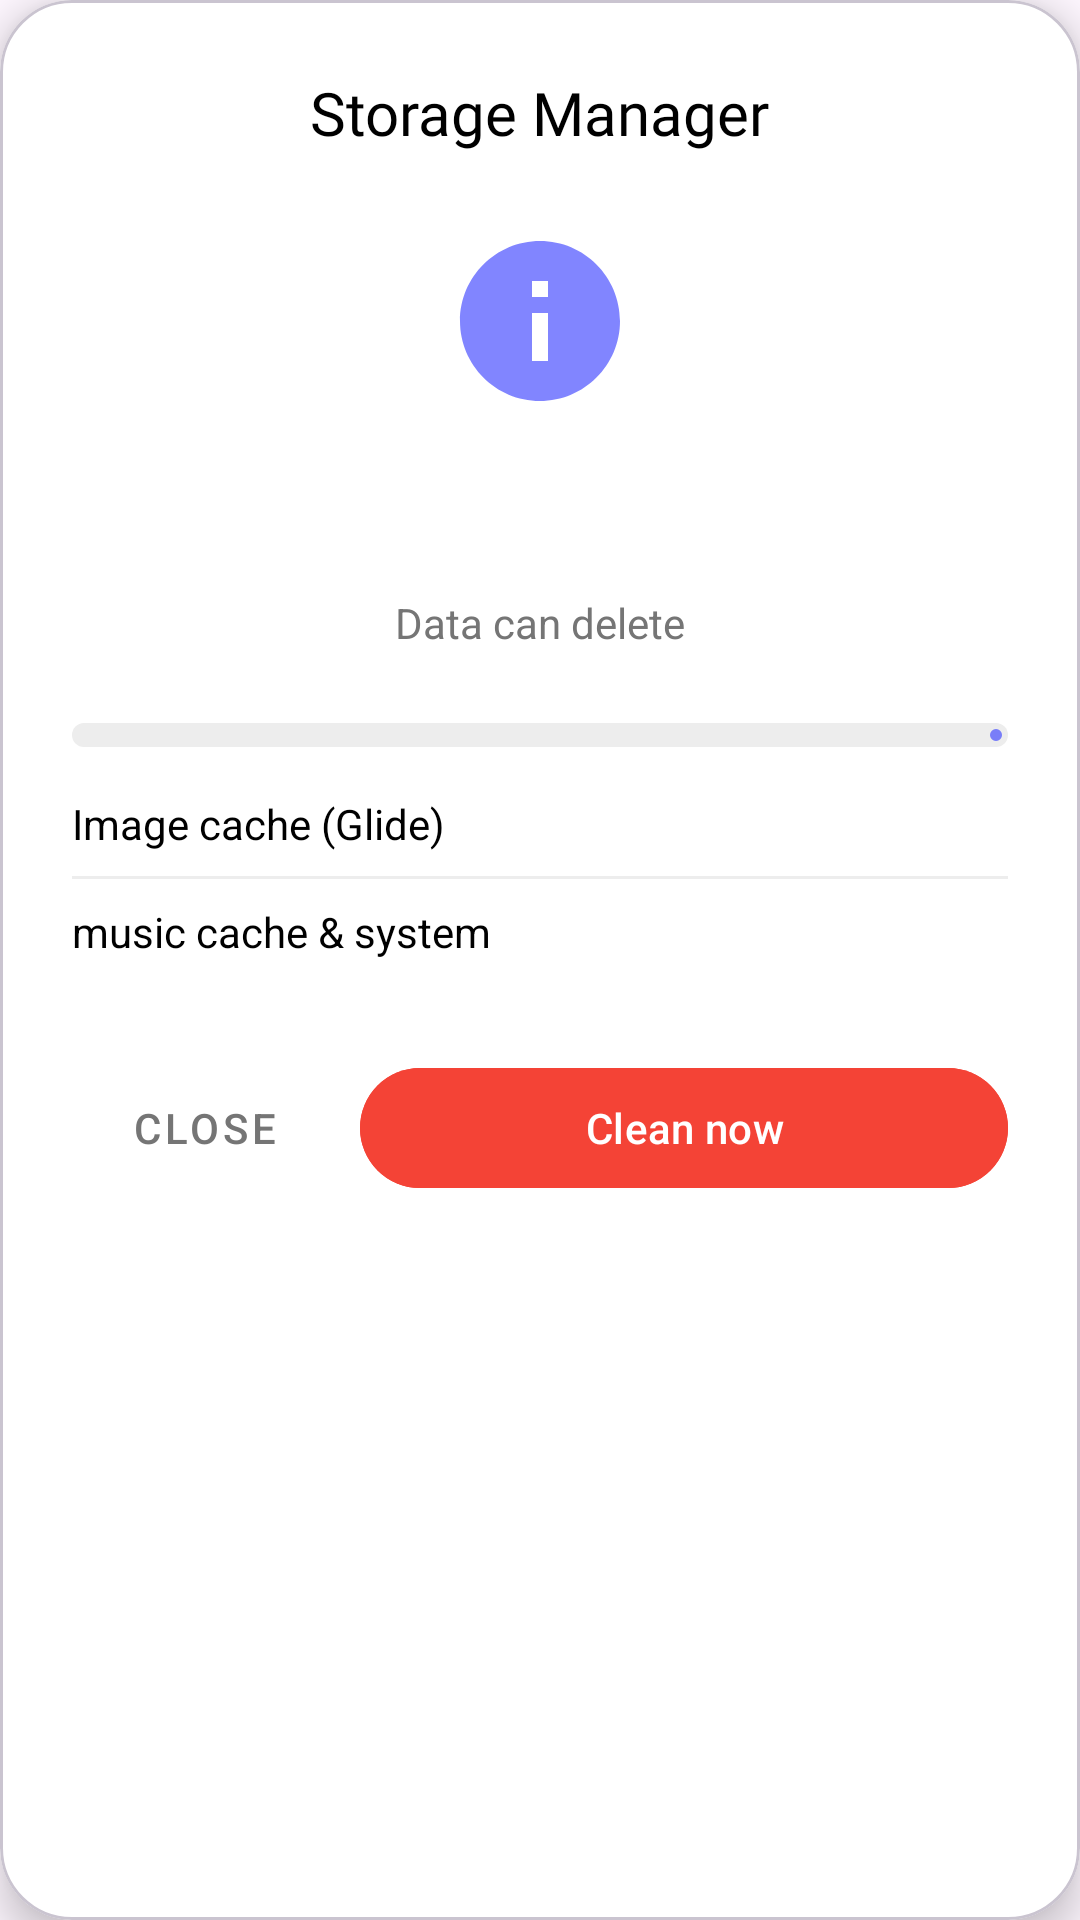

Icons on this 1080 × 1920 Android screen, each with its box as [x1, y1, x2, y2]:
info: [460, 241, 620, 401]
